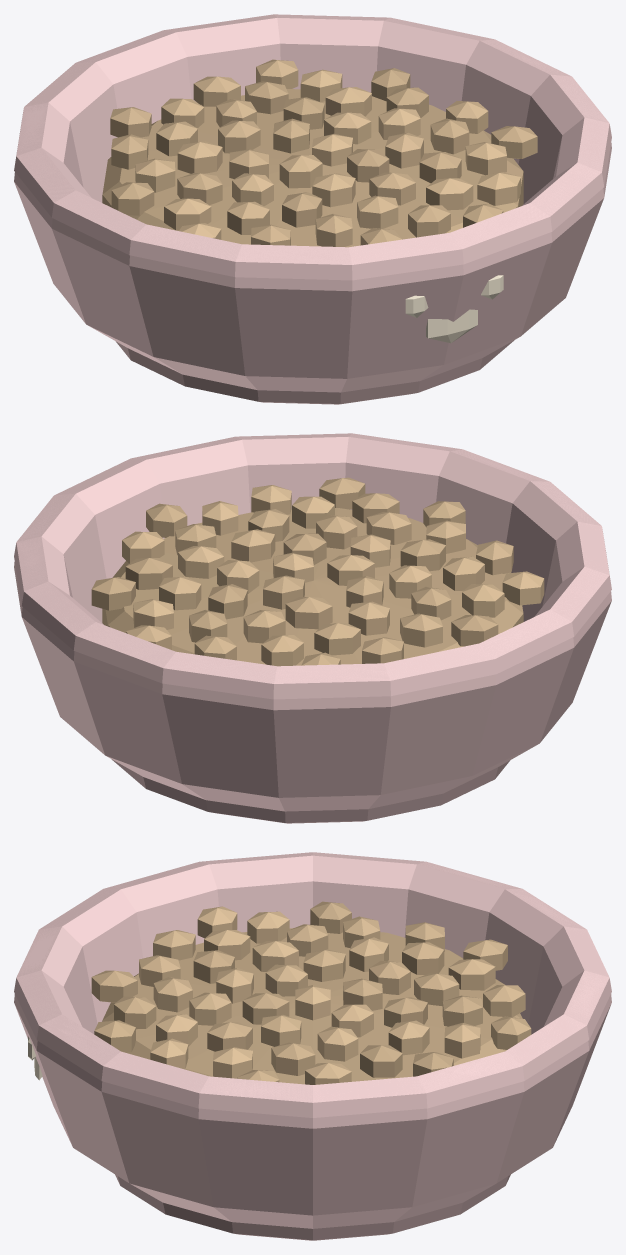
File: crafted-cat-food-0-2.glb
3 renders of one model, top to bottom at view 1: azimuth 30°, elevation 25°; view 2: azimuth 150°, elevation 25°; view 3: azimuth 270°, elevation 25°, orthographic.
Parts seen in each view (by area): view 1: ceramic-bowl, glazed-rim, ration-volume, foot-ring, ration-granule-24, ration-granule-12, ration-granule-37, ration-granule-19, ration-granule-38, ration-granule-1, ration-granule-14, ration-granule-30 (+37 smaller); view 2: ceramic-bowl, glazed-rim, ration-volume, foot-ring, ration-granule-7, ration-granule-20, ration-granule-8, ration-granule-39, ration-granule-25, ration-granule-13, ration-granule-43, ration-granule-30 (+37 smaller); view 3: ceramic-bowl, glazed-rim, ration-volume, foot-ring, ration-granule-40, ration-granule-26, ration-granule-13, ration-granule-28, ration-granule-21, ration-granule-11, ration-granule-36, ration-granule-20 (+37 smaller).
Part boxes in pixels (<box>): ceramic-bowl: <box>14,14,611,392</box>; glazed-rim: <box>14,14,611,280</box>; ration-volume: <box>102,89,523,247</box>; foot-ring: <box>116,340,514,404</box>; ration-granule-24: <box>426,178,473,210</box>; ration-granule-12: <box>177,141,222,173</box>; ration-granule-37: <box>477,172,520,205</box>; ration-granule-19: <box>357,195,398,228</box>; ration-granule-38: <box>111,182,154,215</box>; ration-granule-1: <box>279,155,322,188</box>; ration-granule-14: <box>282,192,322,227</box>; ration-granule-30: <box>164,198,211,230</box>; ceramic-bowl: <box>14,433,611,811</box>; glazed-rim: <box>14,433,611,699</box>; ration-volume: <box>102,508,523,665</box>; foot-ring: <box>111,759,509,823</box>; ration-granule-7: <box>285,597,332,629</box>; ration-granule-20: <box>314,623,360,655</box>; ration-granule-8: <box>231,529,275,562</box>; ration-granule-39: <box>91,577,135,610</box>; ration-granule-25: <box>400,613,442,647</box>; ration-granule-13: <box>178,546,224,578</box>; ration-granule-43: <box>502,571,544,605</box>; ration-granule-30: <box>462,584,504,617</box>; ceramic-bowl: <box>14,852,611,1228</box>; glazed-rim: <box>14,852,611,1117</box>; ration-volume: <box>102,928,522,1084</box>; foot-ring: <box>115,1174,510,1240</box>; ration-granule-40: <box>91,970,137,1002</box>; ration-granule-26: <box>360,1045,402,1077</box>; ration-granule-13: <box>317,1026,358,1061</box>; ration-granule-28: <box>448,959,495,990</box>; ration-granule-21: <box>271,1042,315,1075</box>; ration-granule-11: <box>189,992,231,1025</box>; ration-granule-36: <box>483,985,525,1017</box>; ration-granule-20: <box>402,942,444,974</box>.
Bounding box in the file's own units: 0.76 × 0.265 × 0.76.
